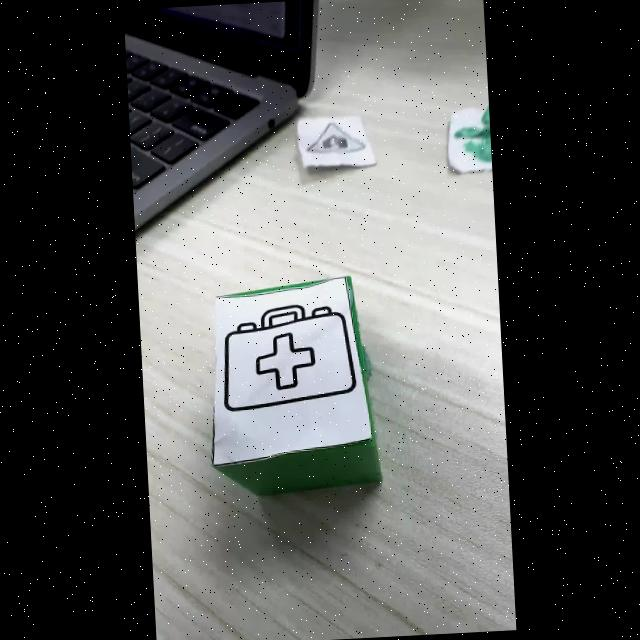Medkit: (223, 306, 355, 411)
